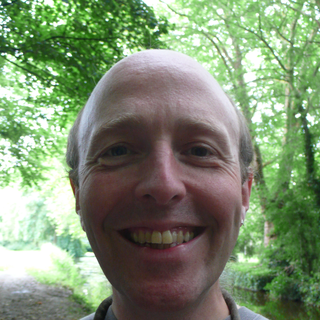eye: (180, 141, 224, 166), (98, 141, 141, 166)
